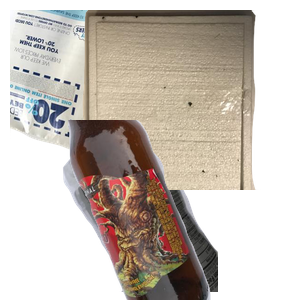glass: (65, 120, 300, 300)
paper: (10, 10, 215, 186)
plastic: (60, 120, 300, 300)
trash: (80, 10, 300, 190)
